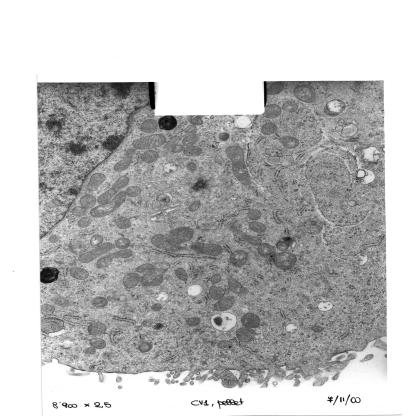mitochondria: (222, 144, 254, 186), (86, 193, 138, 218), (96, 177, 134, 203), (74, 241, 117, 262), (92, 249, 135, 269), (164, 224, 195, 245), (130, 134, 168, 150), (140, 268, 170, 288), (270, 251, 300, 271), (292, 84, 319, 106), (225, 249, 252, 269), (226, 275, 250, 296), (64, 265, 93, 282), (188, 243, 223, 257), (115, 272, 140, 291), (79, 320, 109, 335), (209, 296, 237, 312), (85, 173, 108, 192), (239, 313, 266, 328), (277, 134, 300, 151), (233, 328, 259, 343), (113, 155, 134, 173), (113, 213, 134, 230), (178, 132, 203, 146), (256, 242, 276, 258), (89, 337, 112, 350), (140, 150, 161, 164), (140, 118, 158, 134), (205, 286, 225, 300), (173, 266, 190, 282), (79, 193, 97, 208), (259, 122, 278, 136), (75, 216, 95, 229), (248, 220, 267, 233), (214, 339, 238, 349), (184, 316, 204, 328), (282, 100, 300, 113), (310, 323, 326, 337), (114, 237, 132, 249), (70, 205, 86, 218), (80, 344, 97, 356), (88, 235, 106, 246), (184, 146, 202, 157), (40, 304, 55, 317), (209, 273, 223, 286), (246, 210, 264, 220), (126, 186, 142, 197), (186, 203, 202, 212), (168, 145, 184, 154), (184, 162, 198, 172), (150, 304, 165, 312), (46, 234, 58, 243)
